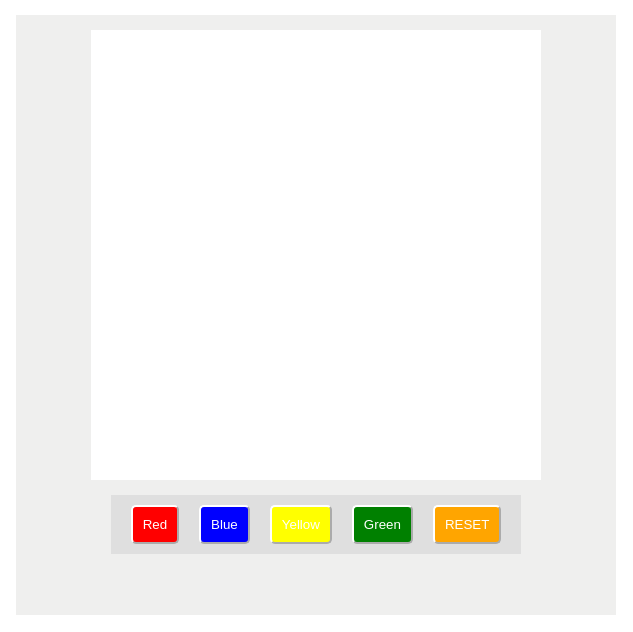
Test case: Testing buttons › test yellow btn
This screenshot has width=633, height=632.
Click the button with test id "yellow".
click(301, 524)  # box top-left (270, 505), bottom-right (332, 544)
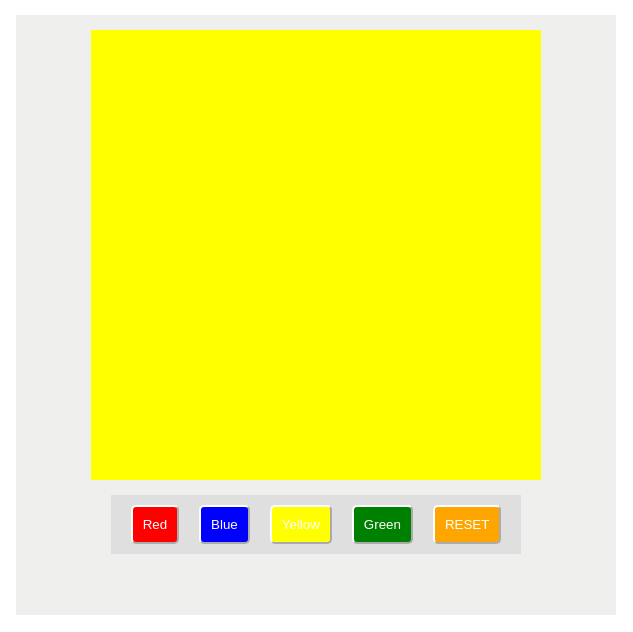
Result: the element with test id "yellow-card" is shown at top-left (91, 30), bottom-right (541, 480)
